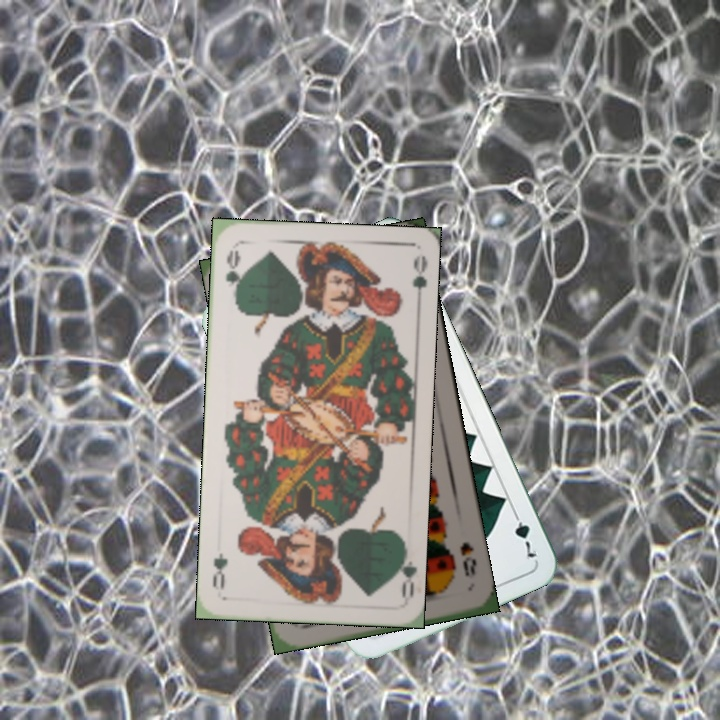G7: (508, 505, 540, 561)
GO: (390, 542, 418, 601), (222, 246, 244, 303)
S8: (456, 538, 479, 579)
